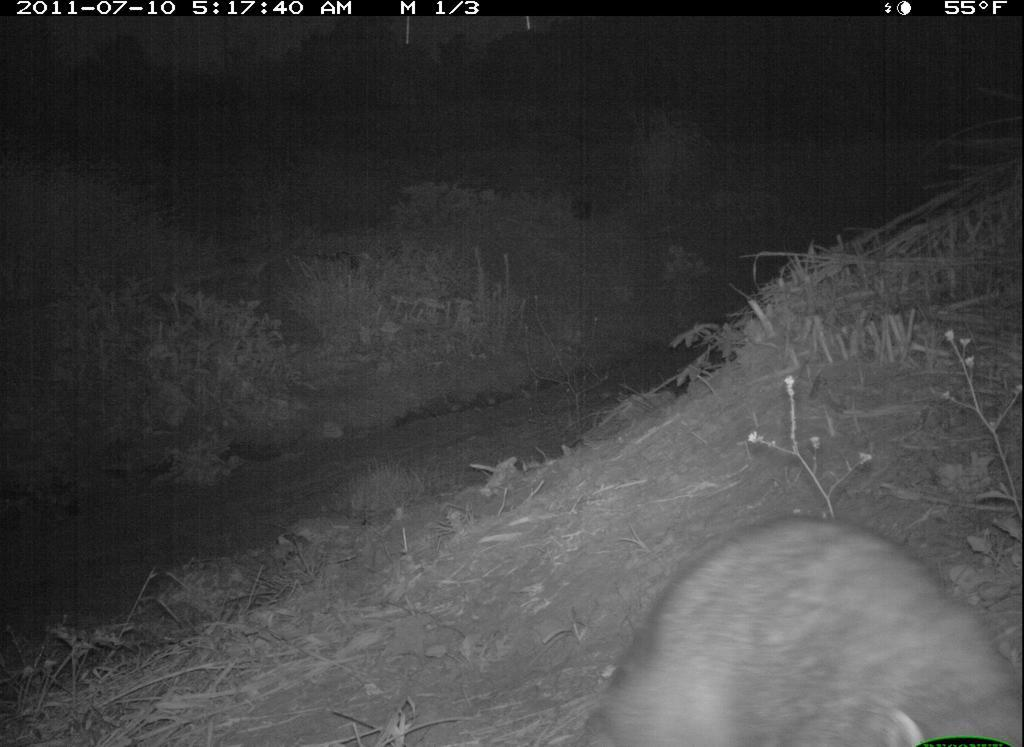raccoon: (556, 511, 1021, 747)
